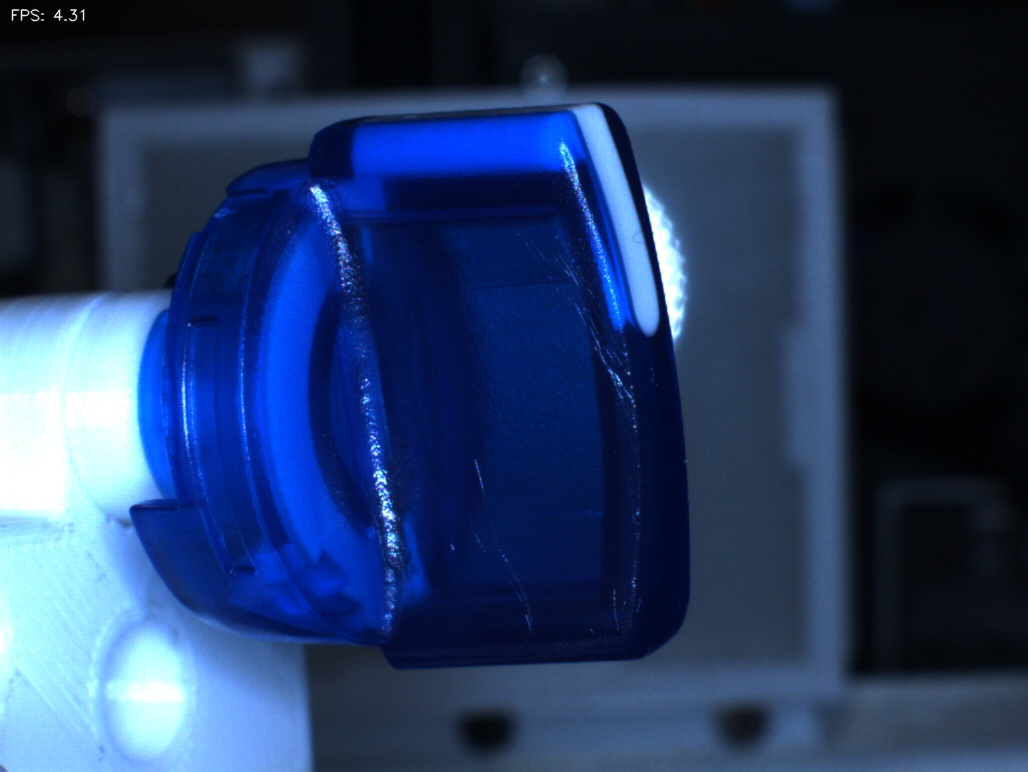Givrage: (512, 205, 631, 404), (444, 447, 543, 638)
